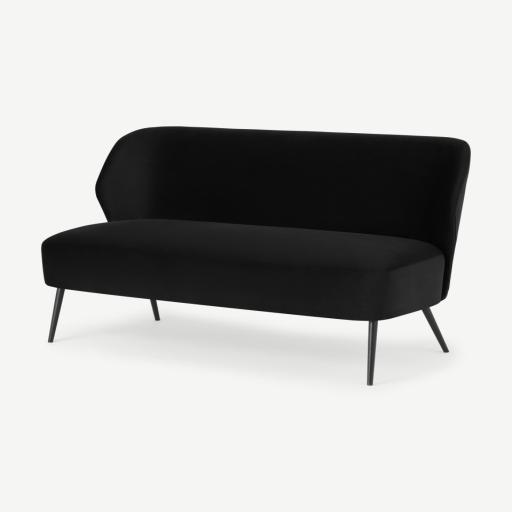back_cushion: (97, 127, 470, 298)
legs: (422, 308, 448, 352), (48, 289, 65, 343), (367, 322, 377, 385), (151, 299, 159, 320)
one-seater: (42, 127, 469, 385)
seat_cushion: (42, 219, 444, 319)
